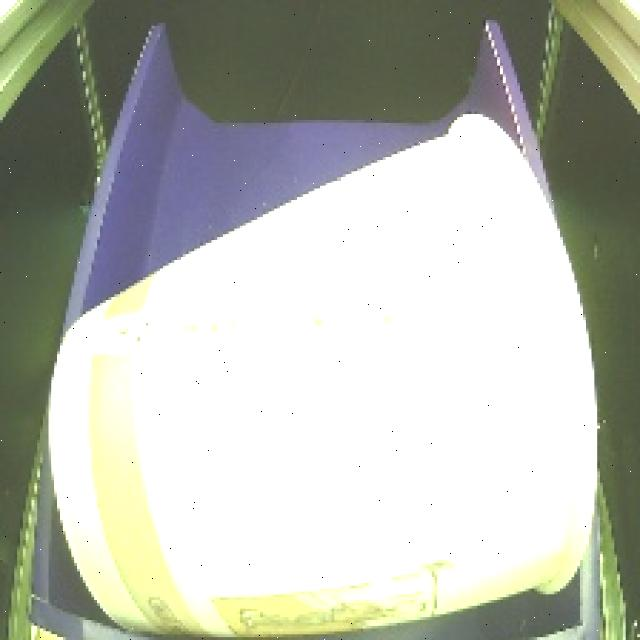cups: (42, 98, 608, 640)
